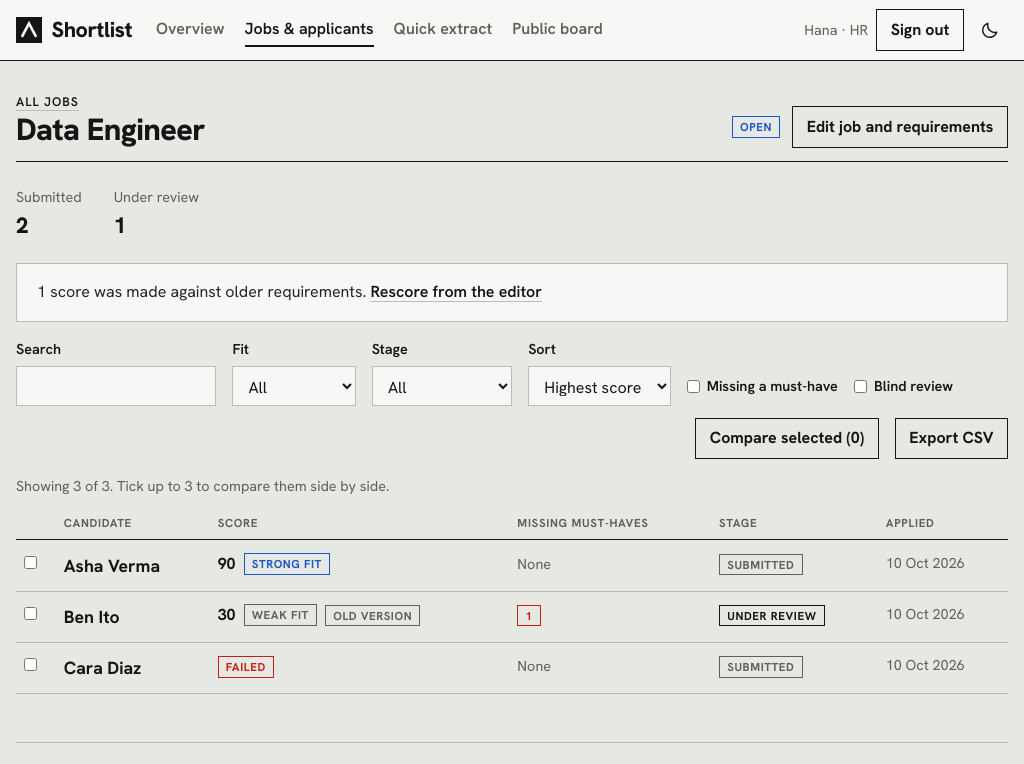
it: applicants › filters, hides names in blind review, and remembers the choice
Expected: the link "Asha Verma" is shown, [64,554,160,576]
Click the checkbox labelled "Missing a must-have": x=693, y=386 [686,380,700,392]
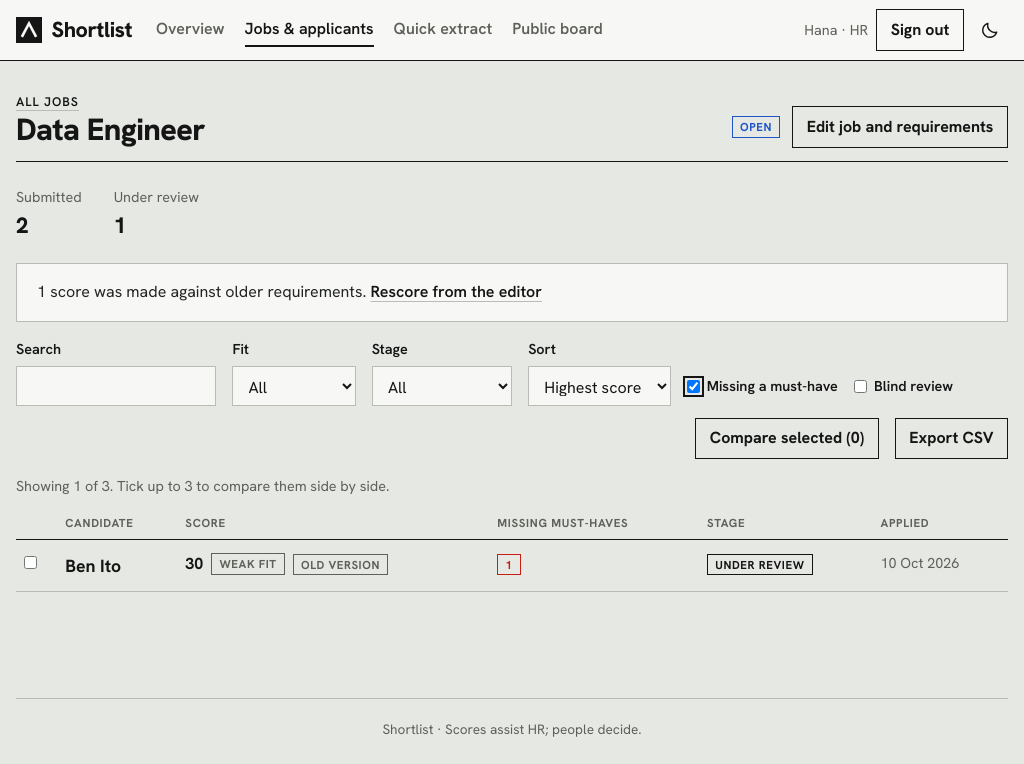
Now the text "Showing 1 of 3. Tick up to 3 to compare them side by side." is shown, box [16,477,390,495]
Click the checkbox labelled "Missing a must-have": x=693, y=386 [686,380,700,392]
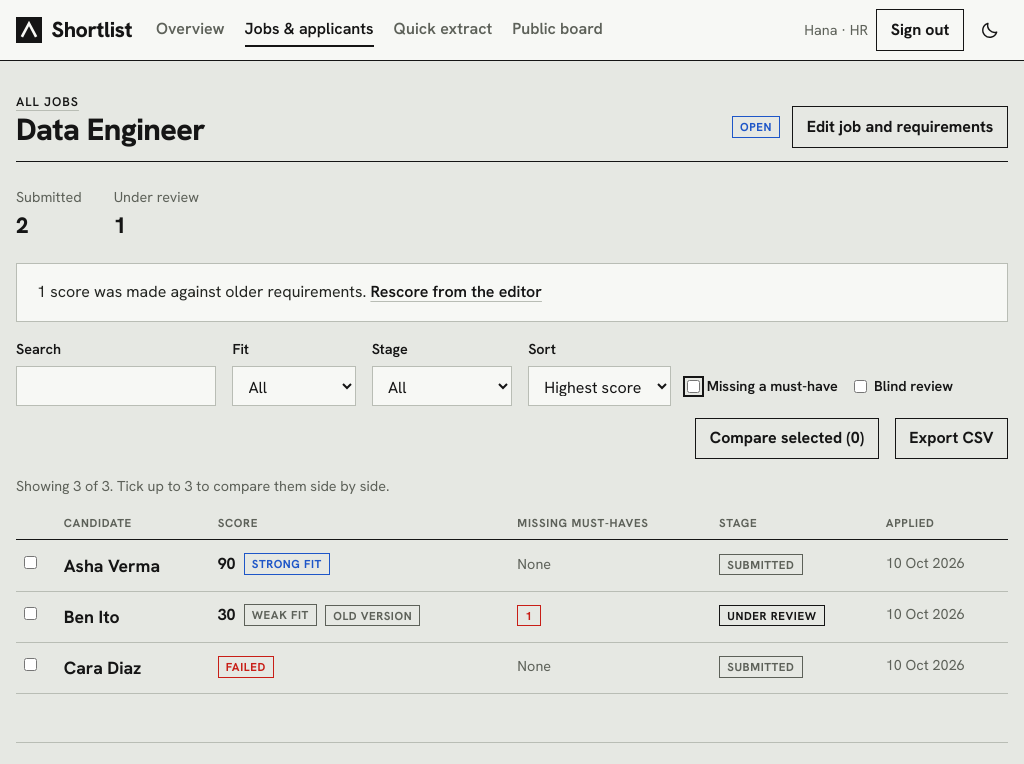
Select "Not scored" in the dropdown labelled "Fit": x=294, y=386 [232,366,356,406]
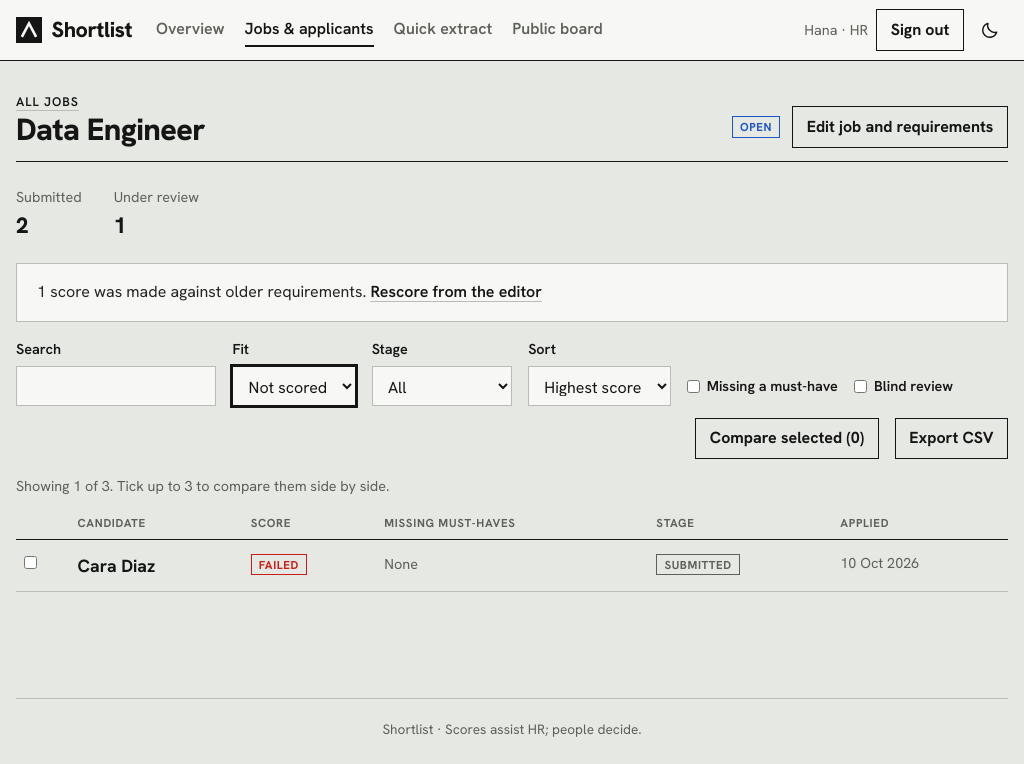
Now the link "Cara Diaz" is shown, box [78,554,155,576]
Select "All" in the dropdown labelled "Fit": x=294, y=386 [232,366,356,406]
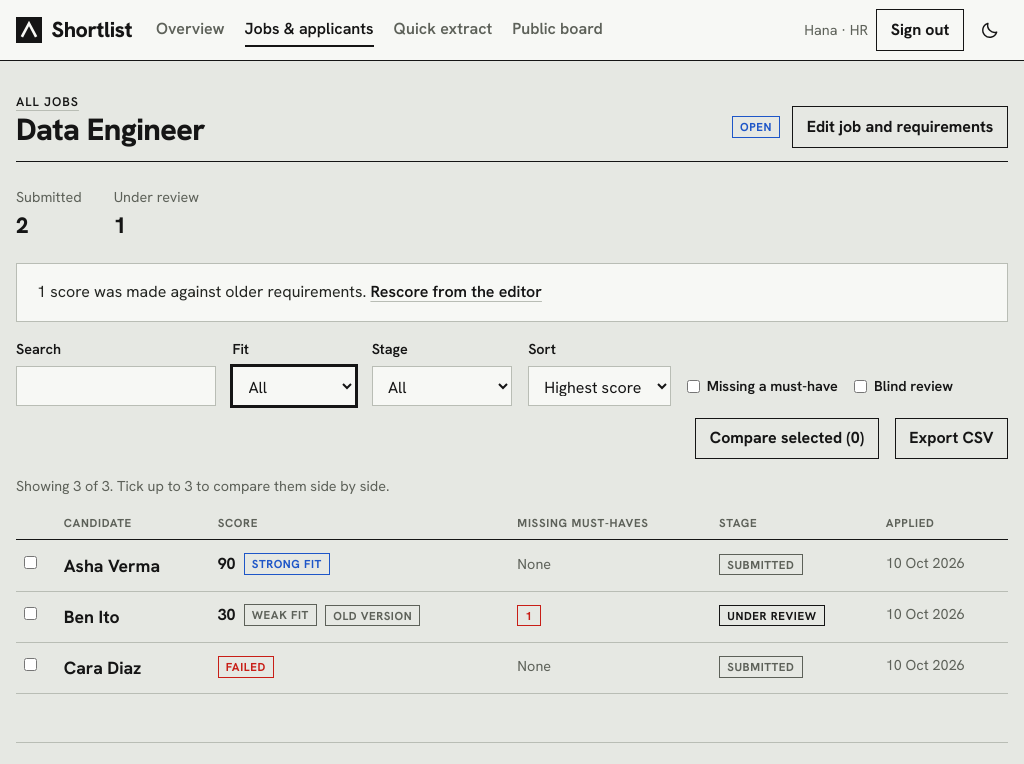
Click the checkbox labelled "Blind review": x=860, y=386 [854,380,867,392]
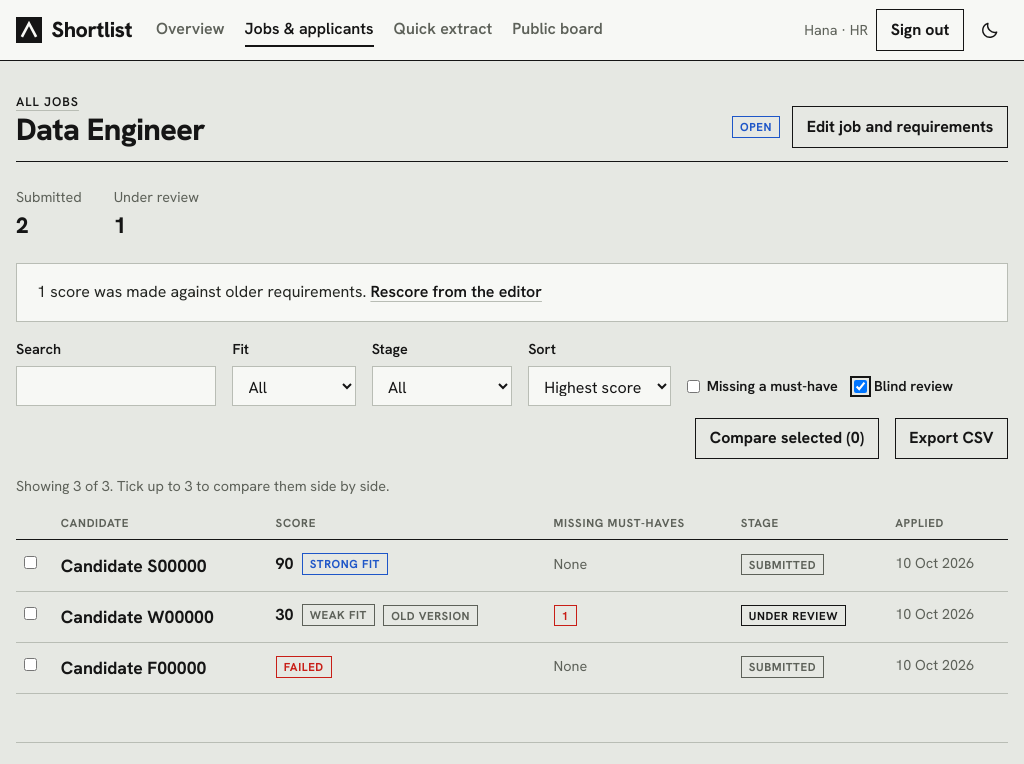
Now the link "Asha Verma" is gone
Now the link "Candidate S00000" is shown, box [61,554,207,576]
